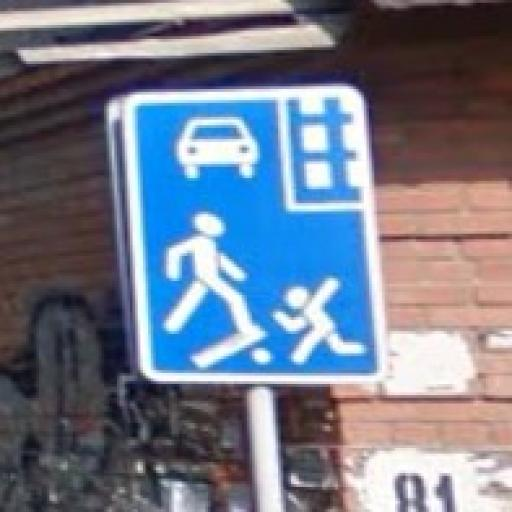traffic_sign: (126, 84, 388, 388)
